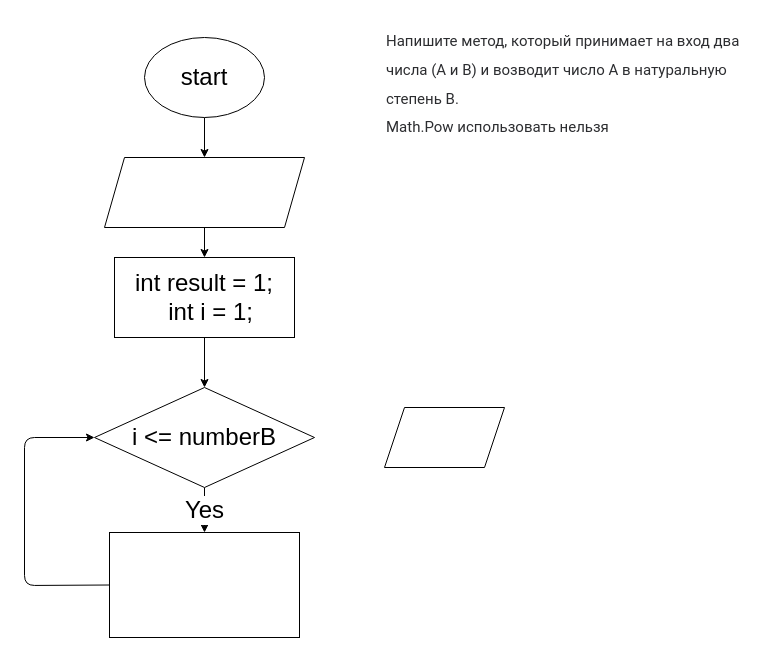
This 762x655 diagram has some shape labels left out. The centre of each missing label's shape, as x and y in pixels:
"result = result * numberA i ++" belongs at point (204, 585).
"Введите два числа" belongs at point (204, 192).
